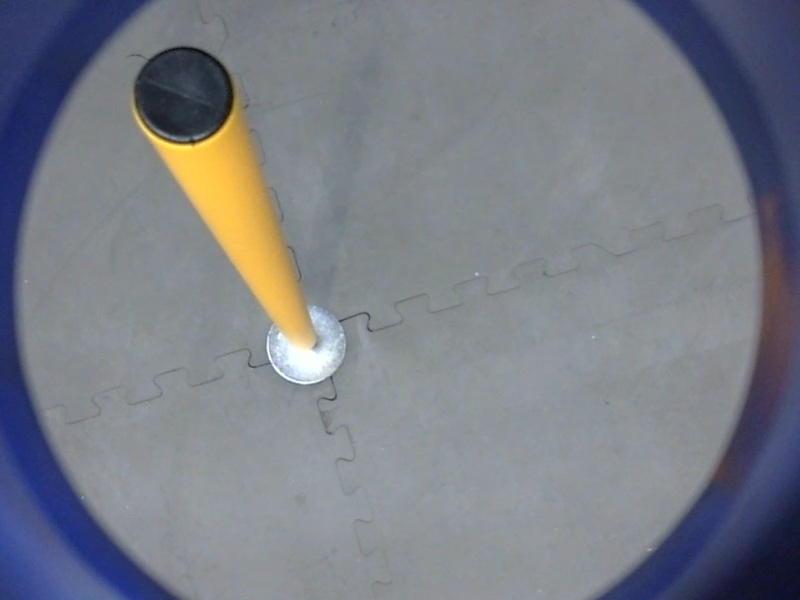tip: (125, 41, 246, 152)
